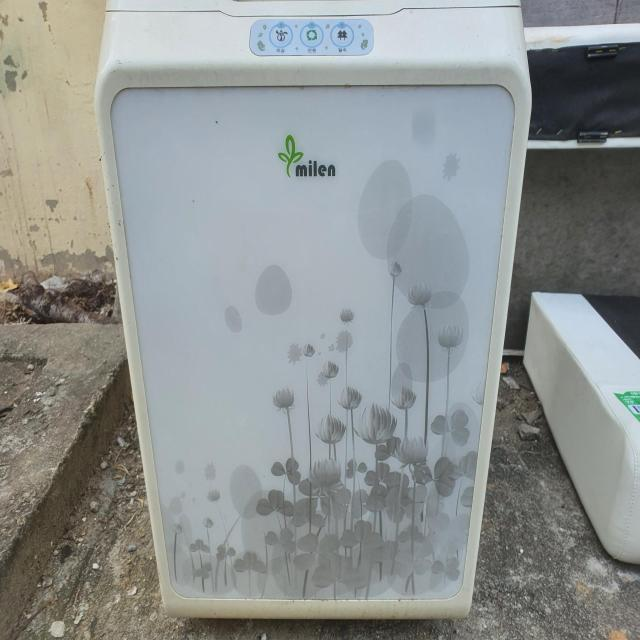refrigerator: (94, 0, 534, 619)
